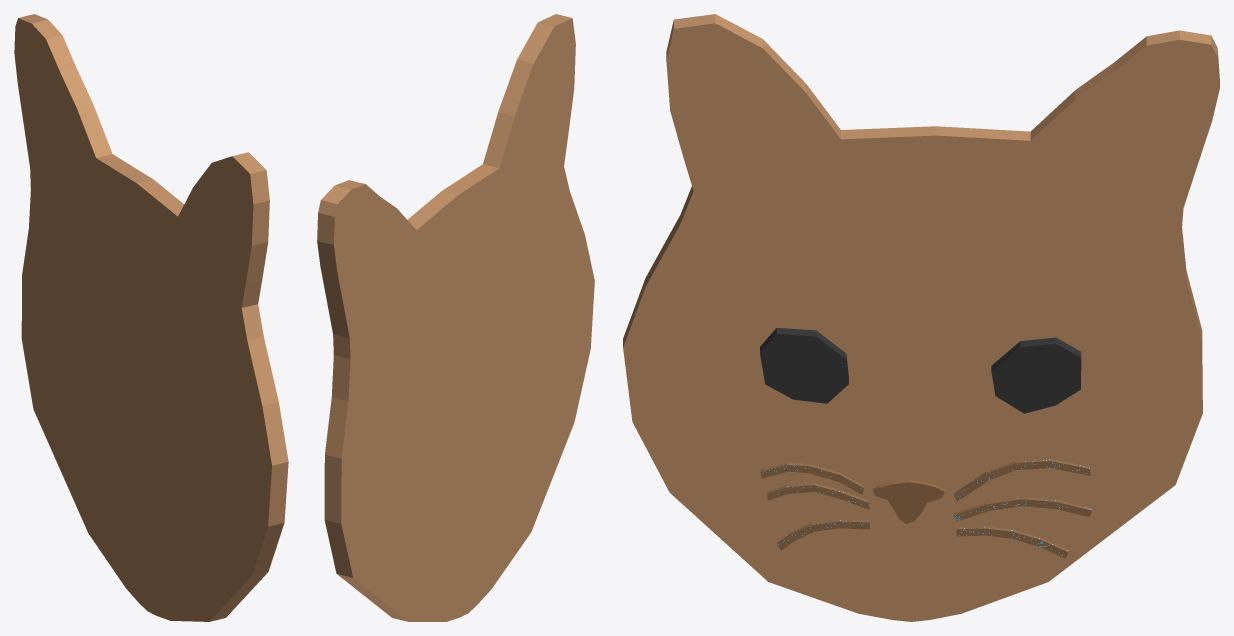
The model's file is CAT.fbx.
The picture shows the model from 3 angles, left to right: view 1: azimuth 30°, elevation 25°; view 2: azimuth 150°, elevation 25°; view 3: azimuth 270°, elevation 25°; orthographic projection. The views are drawn at different scales.
Visible parts, largest first — view 1: Plane.001; view 2: Plane.001; view 3: Plane.001.
Part boxes in pixels (<box>): Plane.001: <box>14,14,288,621</box>; Plane.001: <box>317,14,594,621</box>; Plane.001: <box>623,14,1219,621</box>.
Bounding box in the file's own units: 10.47 × 152 × 137.
1 material, 1 textured.
